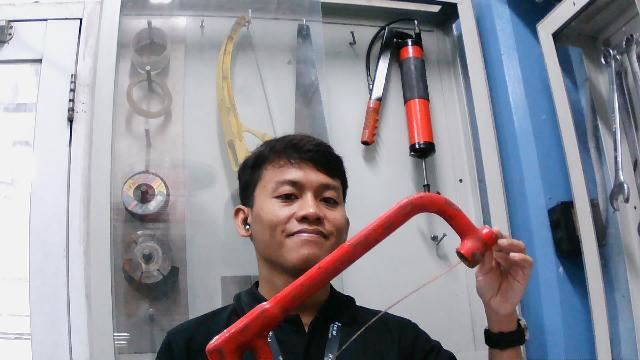gergaji_besi: (195, 189, 504, 359)
